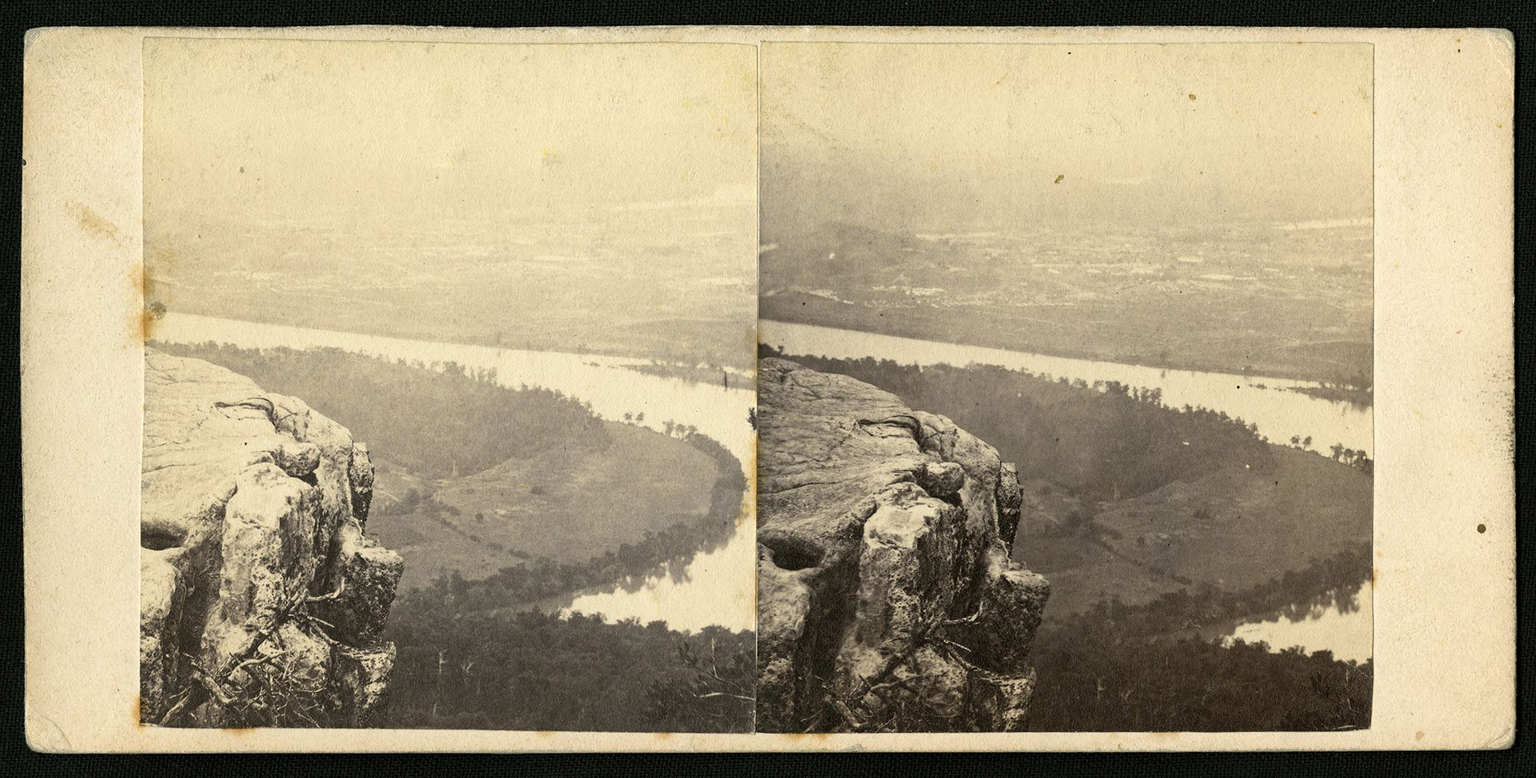half_image: (141, 38, 757, 732), (758, 41, 1374, 732)
